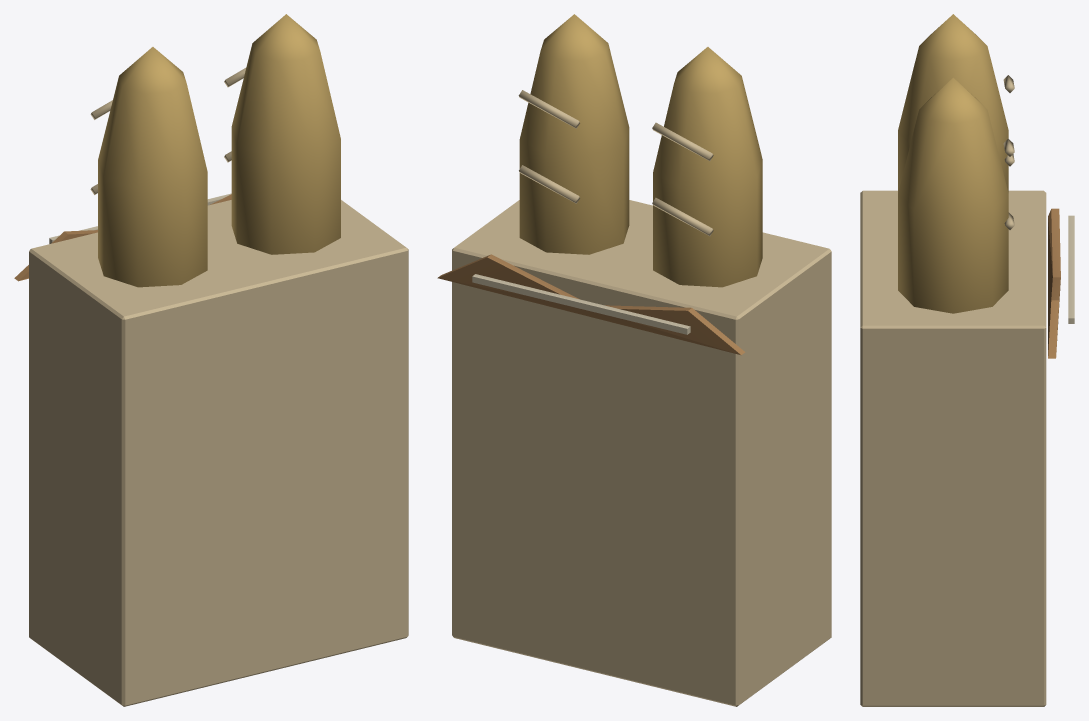
The model's file is bread_low.glb.
3 views of the same model, side by side, from view 1: azimuth 30°, elevation 25°; view 2: azimuth 150°, elevation 25°; view 3: azimuth 270°, elevation 25° (orthographic). The views are drawn at different scales.
Bounding box in the file's own units: 0.212 × 0.405 × 0.1325.
